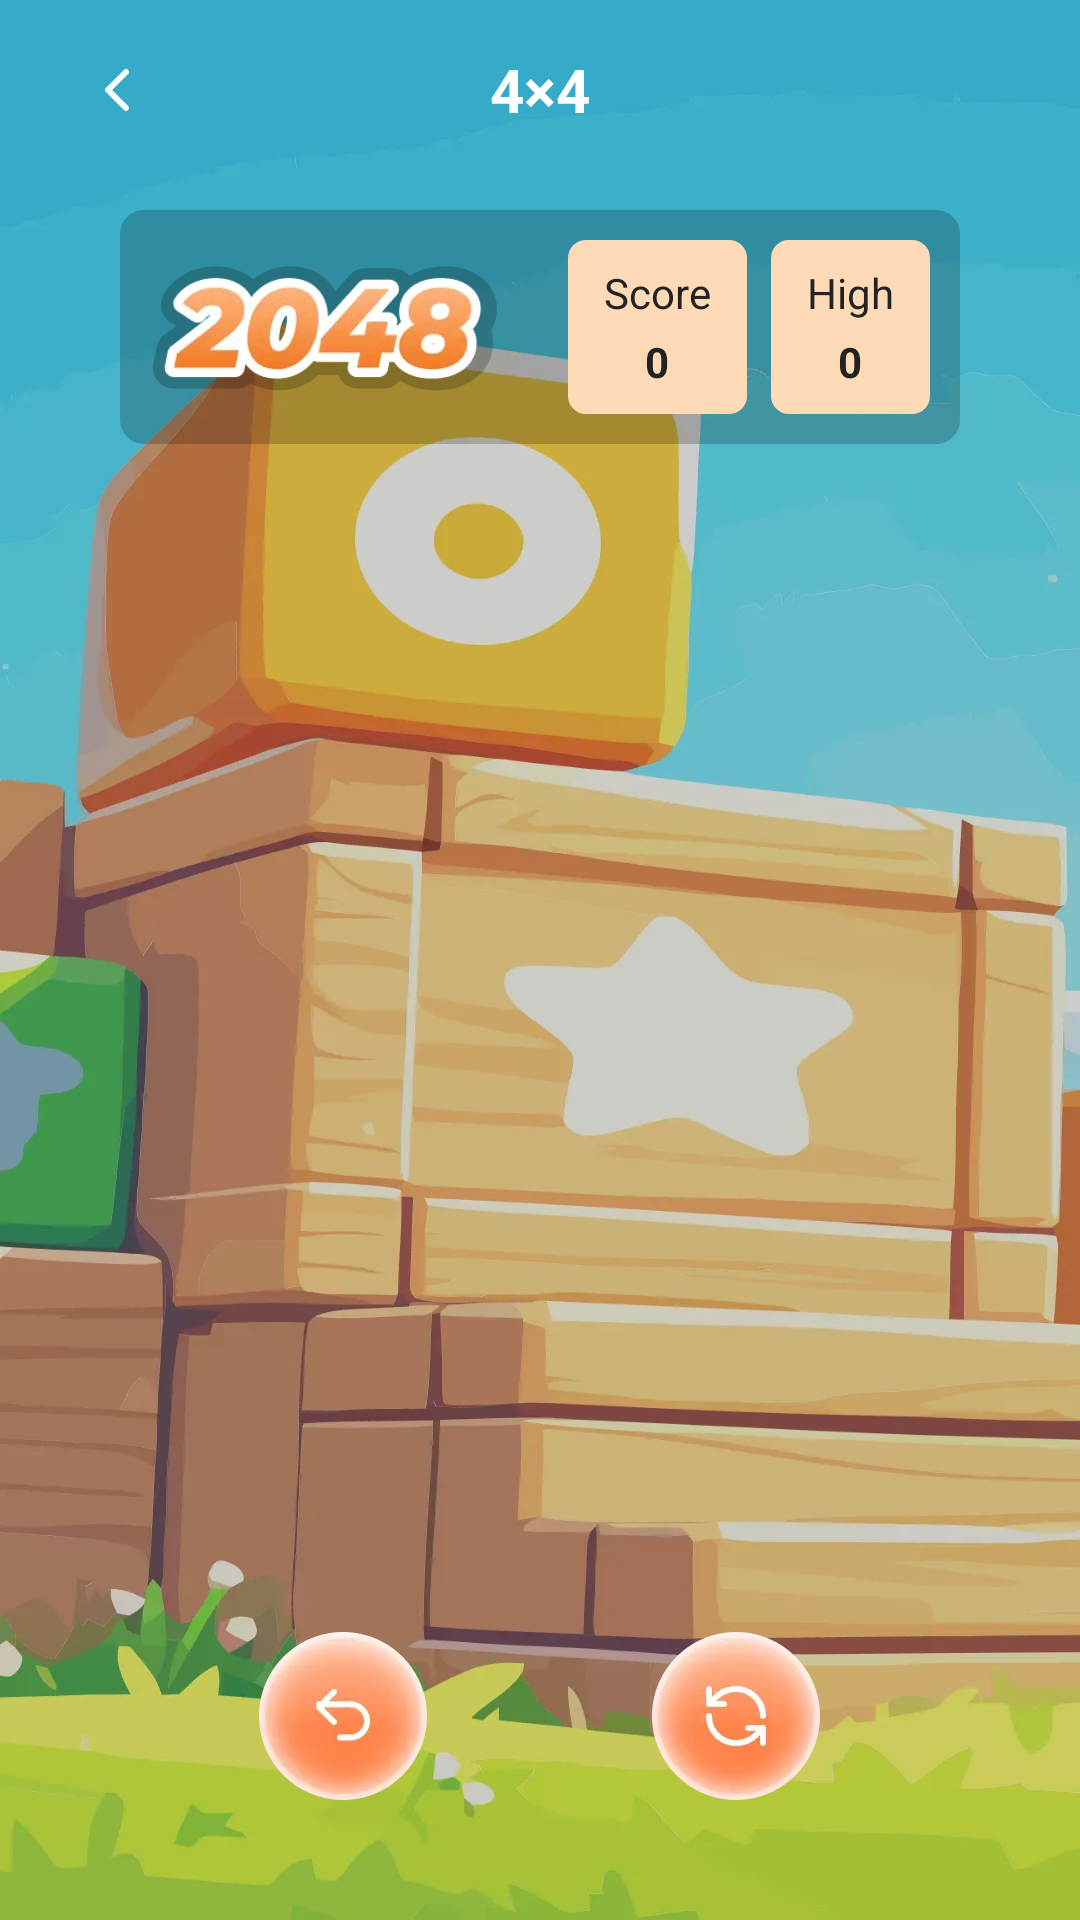

Point at icon controls on the screen. Image size 1080w x 1920h, points as point (x, y).
back: point (117, 90)
restart: point (736, 1716)
withdraw: point (343, 1716)
